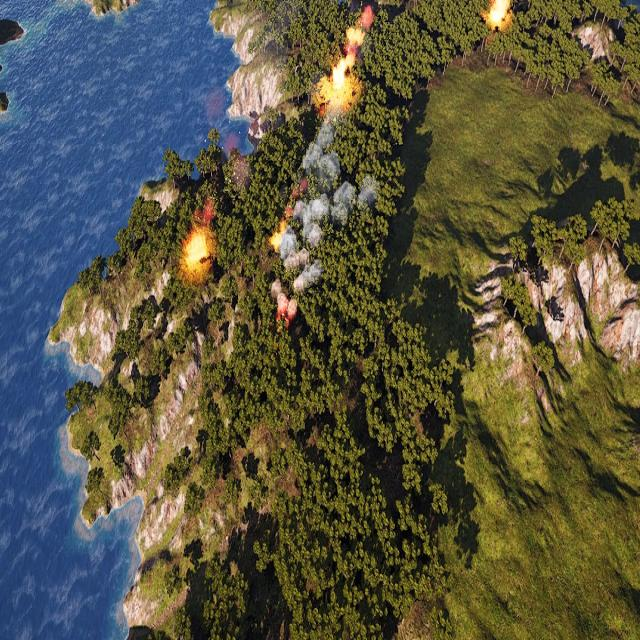fire: (324, 6, 374, 98), (181, 228, 209, 271), (487, 0, 512, 26)
smoke: (275, 123, 377, 321), (275, 123, 380, 308)
